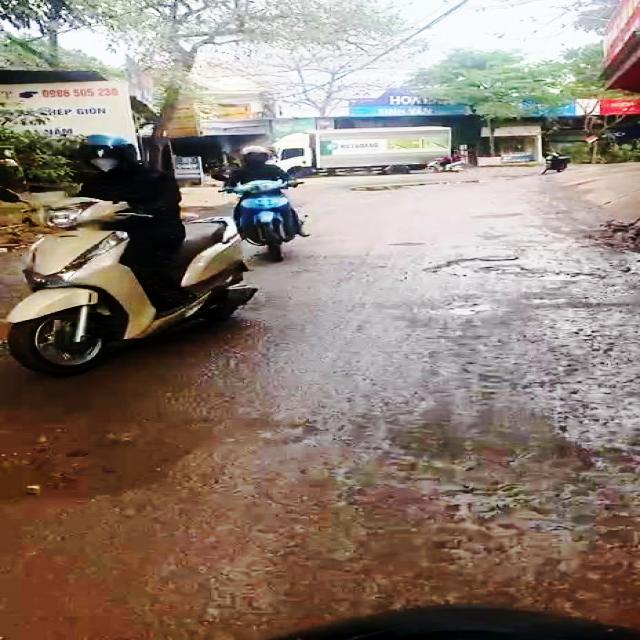pothole: (0, 391, 239, 504), (421, 250, 598, 288)
